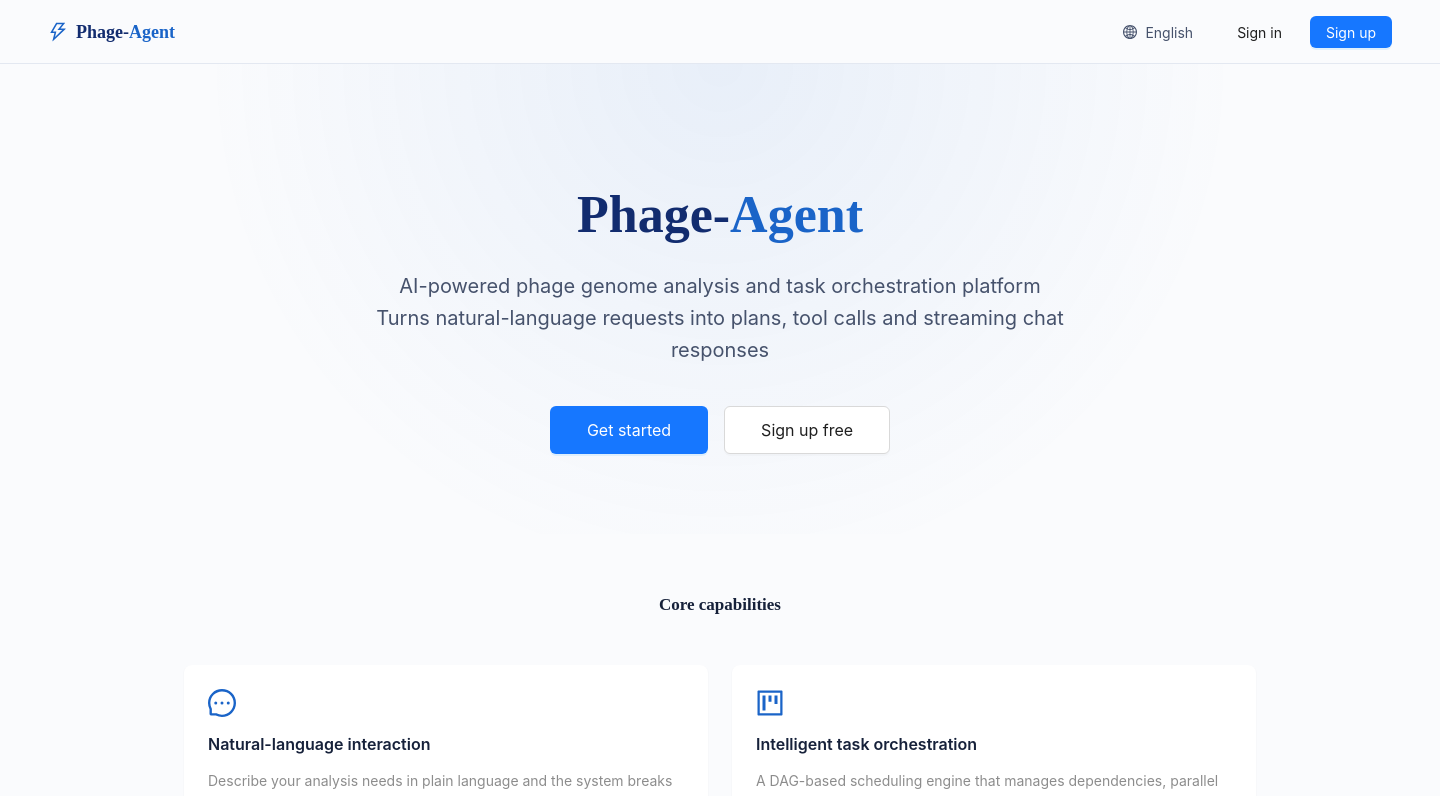
Test: landing page › has a language switch, so a signed-out visitor can change the language
Step 1. Click the button with aria-label "Language" → (1158, 32), box [1107,16,1209,48]
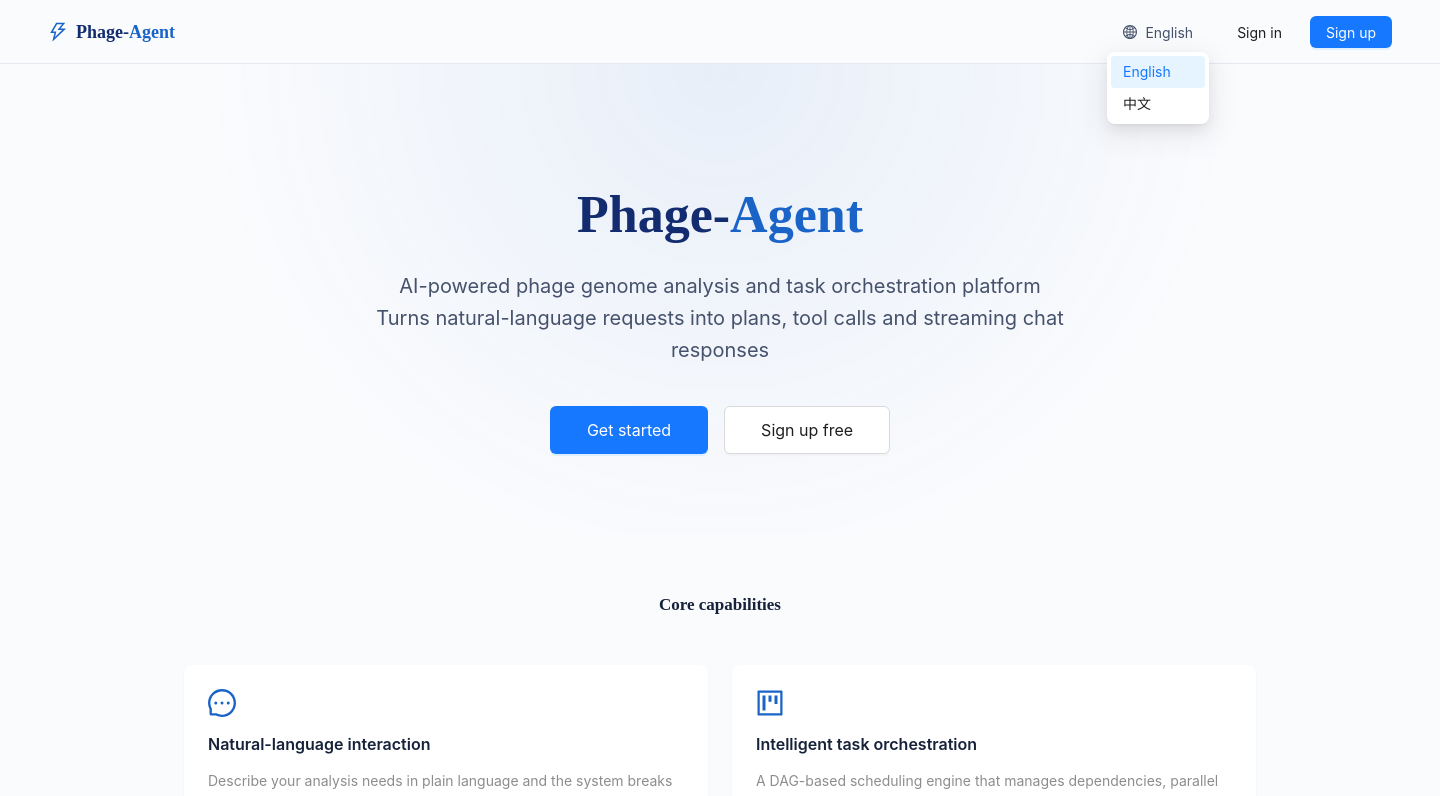
Step 2. Click the menu item "中文" → (1137, 104), box [1123,95,1151,112]
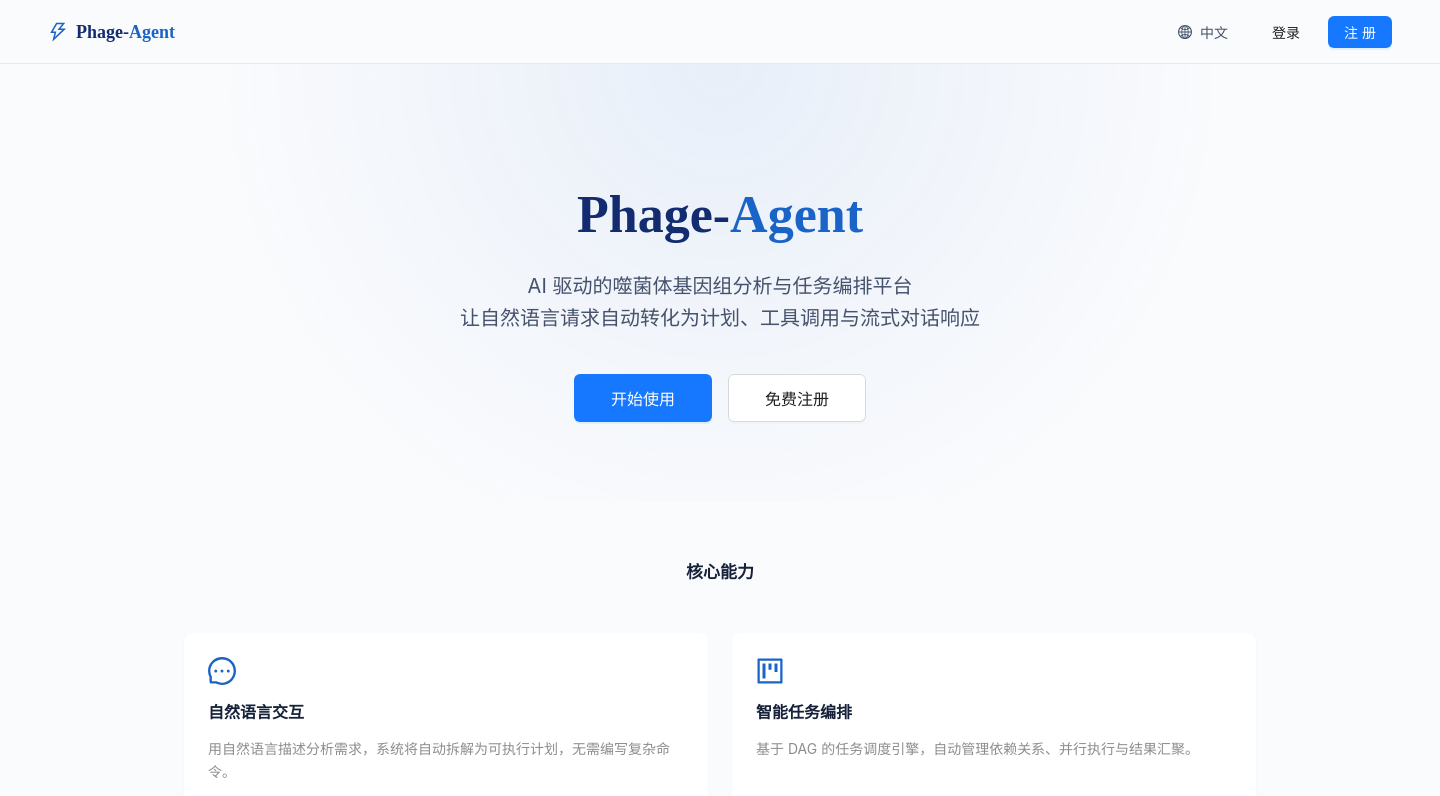
Expected: the heading "核心能力" is shown, [686,563,754,582]
